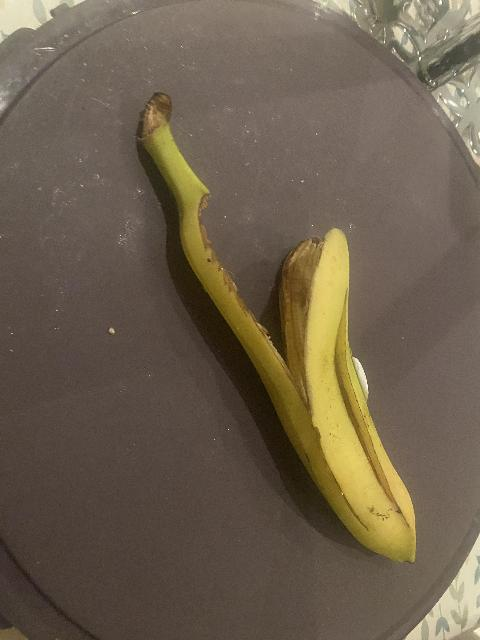Organik: (138, 106, 424, 571)
